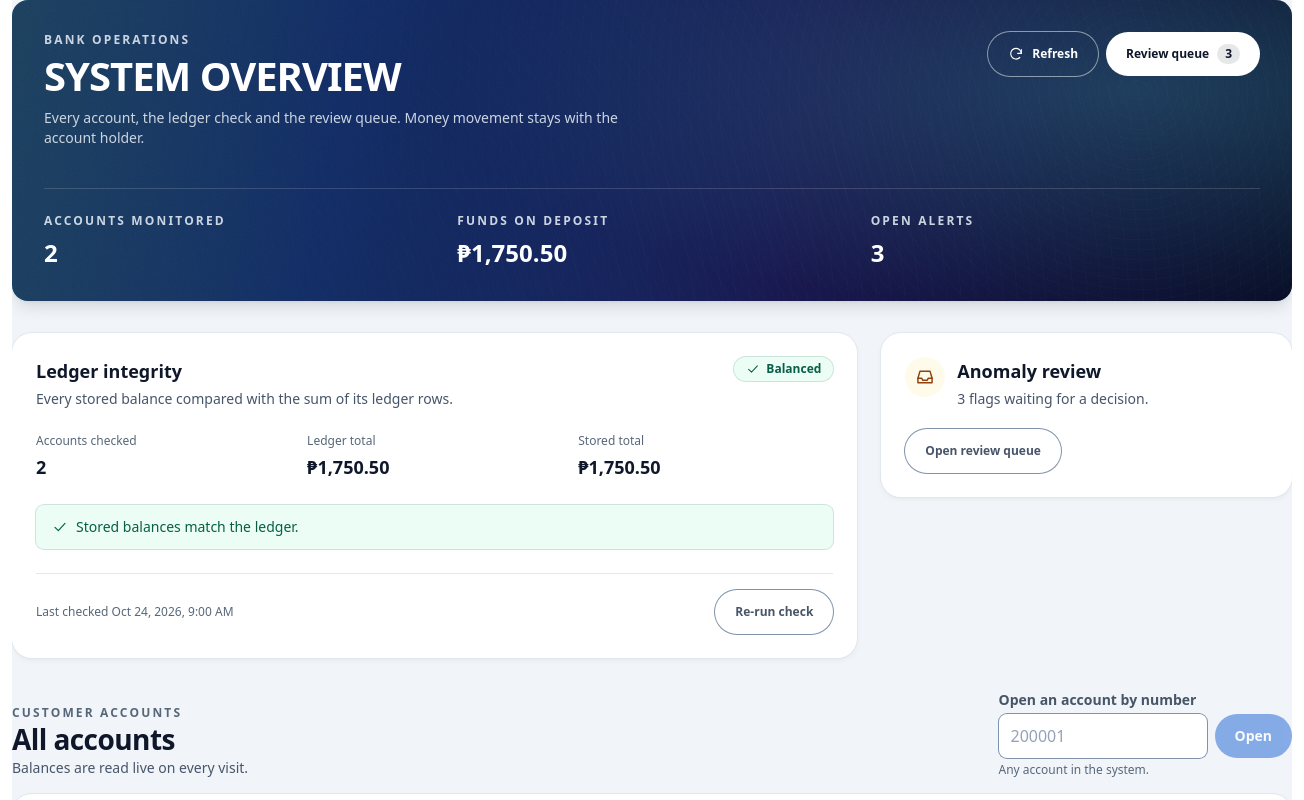
AdminDashboardPage › re-runs the check and reports the fresh result
Expected: the text "Balanced" is shown, [734,357,833,381]
Click the button "Re-run check". click: (774, 612)
box: [715,590,833,634]
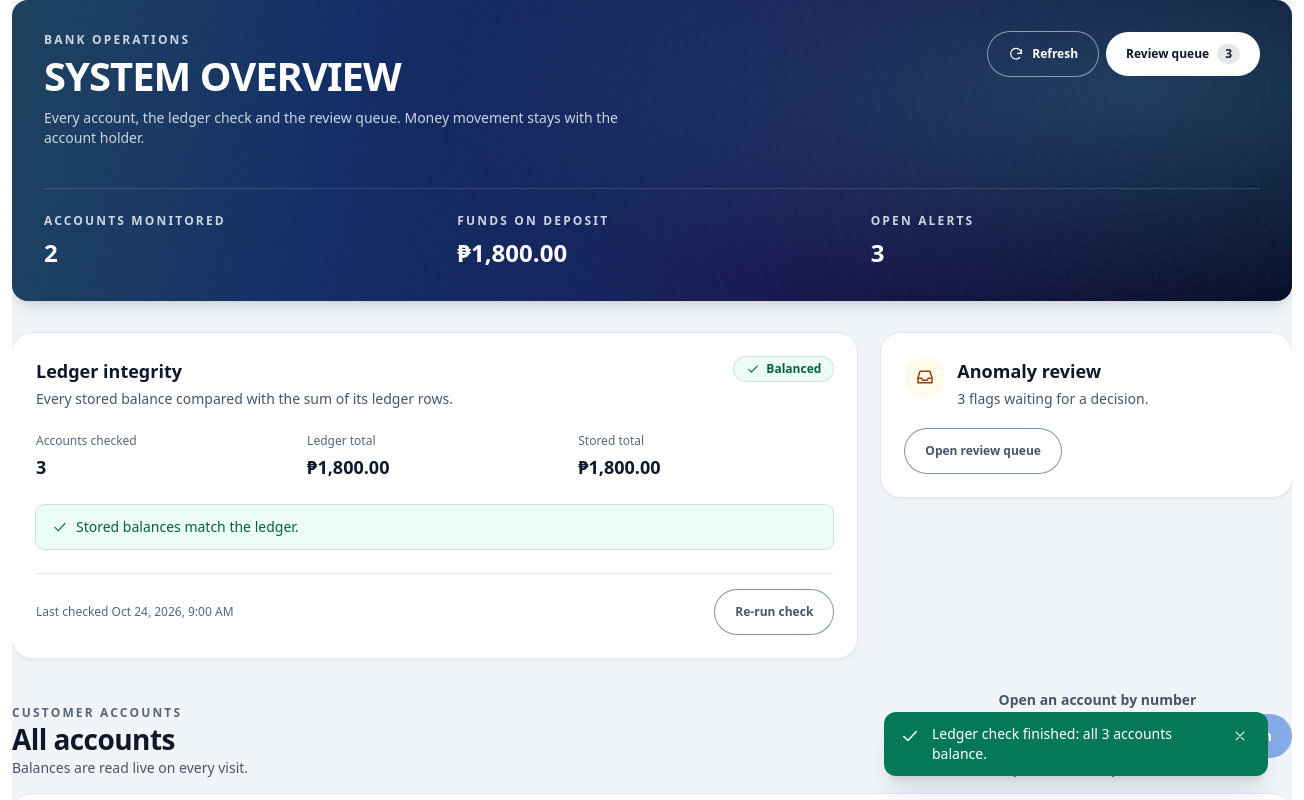
Expected: the message reads "Ledger check finished: all 3 accounts balance.", [932,724,1172,763]
